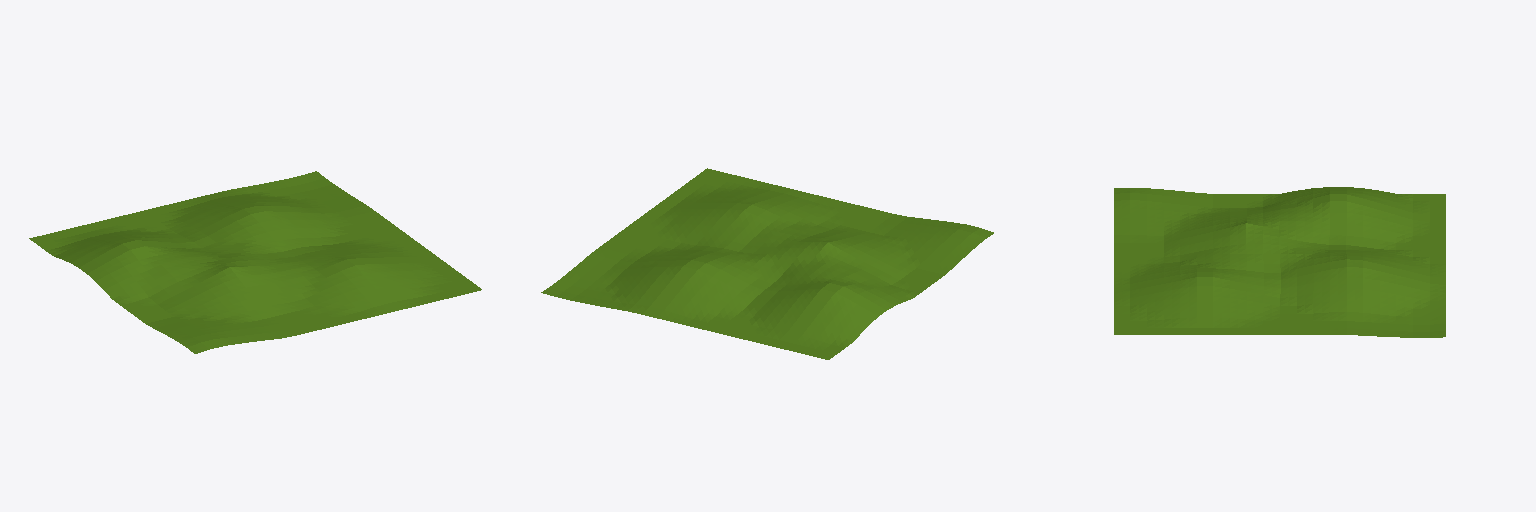
File: grassland.obj
3 views of the same model, side by side, from view 1: azimuth 30°, elevation 25°; view 2: azimuth 150°, elevation 25°; view 3: azimuth 270°, elevation 25° (orthographic).
Parts seen in each view (by area): view 1: grassLand; view 2: grassLand; view 3: grassLand.
Part boxes in pixels (x1,y1,x2,y2): grassLand: (29, 171, 481, 353); grassLand: (541, 168, 993, 359); grassLand: (1114, 187, 1445, 337).
Size of the model in its own units: 400 by 33.13 by 400.